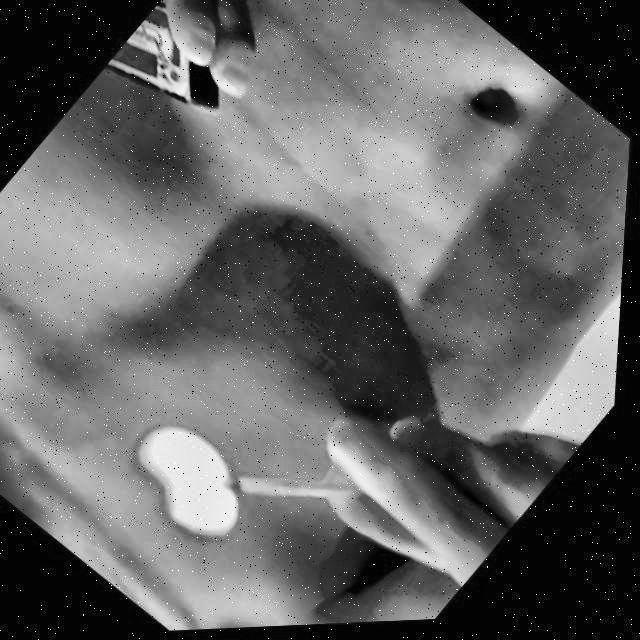Fire: (111, 407, 276, 563)
